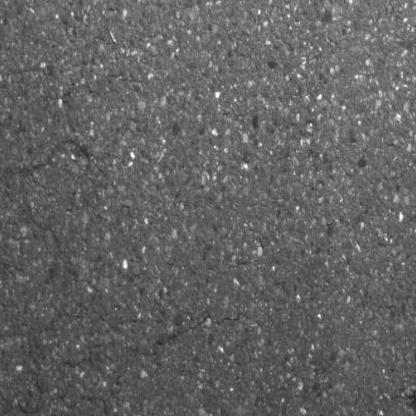Cracks: (406, 330, 416, 416)
